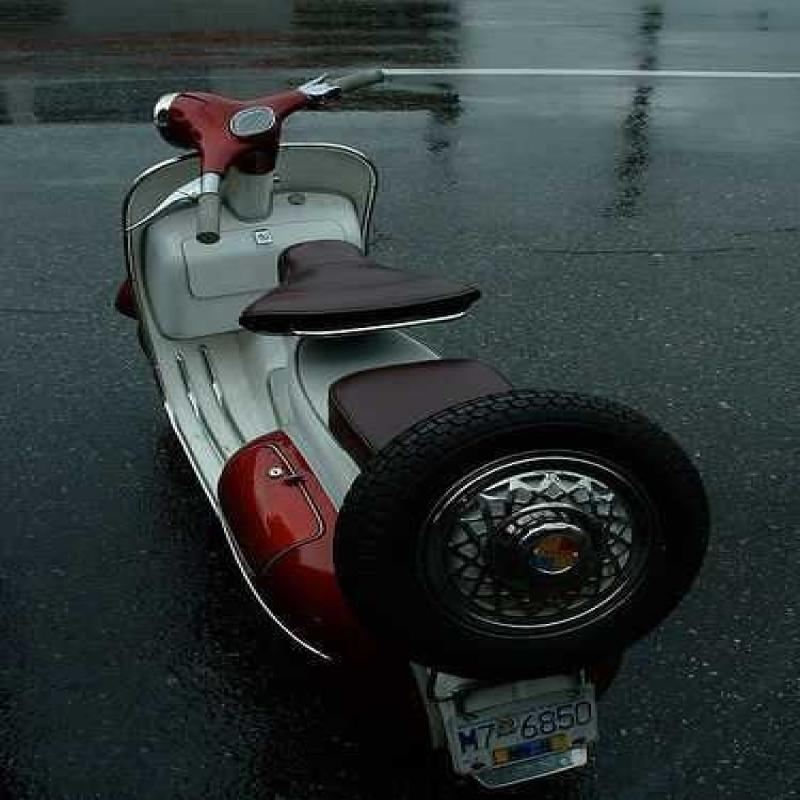bike: (78, 61, 698, 800)
